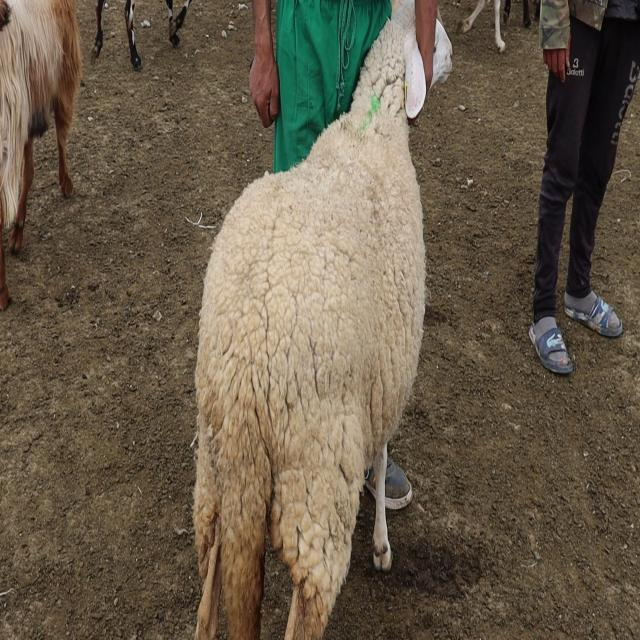Score_4: (194, 0, 426, 639)
